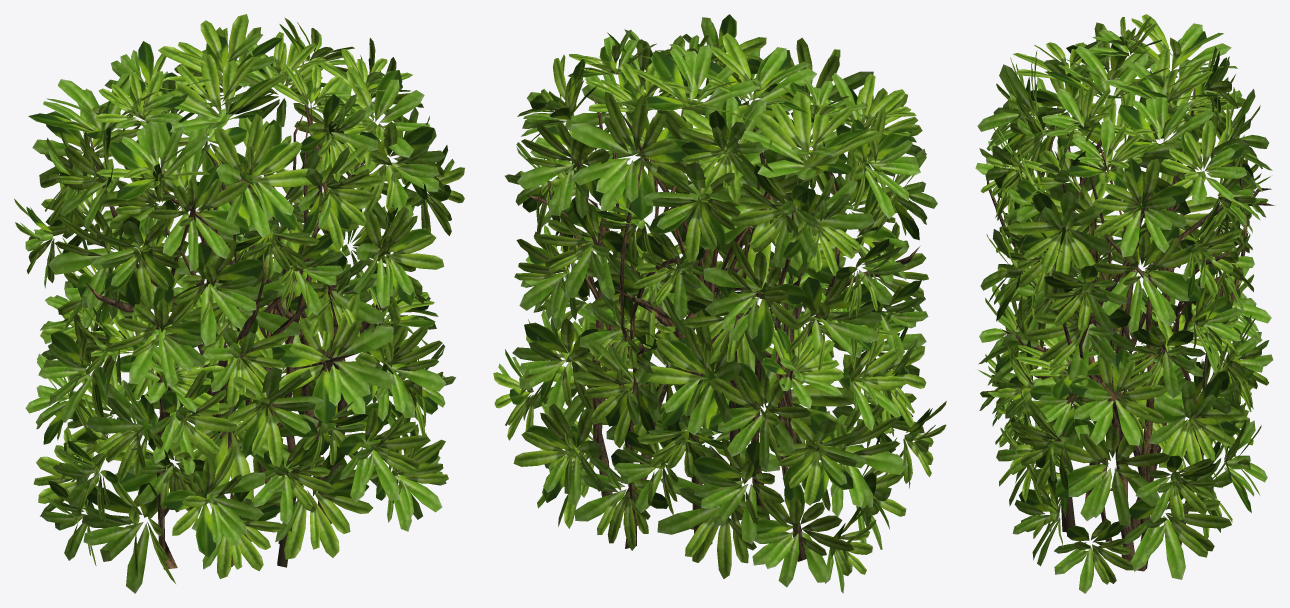
The model's file is sweethome3d-scopia-high-hedge-333.glb.
3 views of the same model, side by side, from view 1: azimuth 30°, elevation 25°; view 2: azimuth 150°, elevation 25°; view 3: azimuth 270°, elevation 25° (orthographic). The views are drawn at different scales.
Visible parts, largest first — view 1: leaves_Plane.020, branches_stems_1.003; view 2: leaves_Plane.020, branches_stems_1.003; view 3: leaves_Plane.020, branches_stems_1.003.
Part boxes in pixels (box(x1,y1,x2,y2)): leaves_Plane.020: box(14, 14, 464, 593); branches_stems_1.003: box(84, 61, 396, 569); leaves_Plane.020: box(493, 14, 946, 593); branches_stems_1.003: box(526, 64, 919, 561); leaves_Plane.020: box(975, 14, 1273, 593); branches_stems_1.003: box(986, 88, 1275, 571).
Size of the model in its own units: 151 by 179 by 104.
2 materials, 2 textured.
